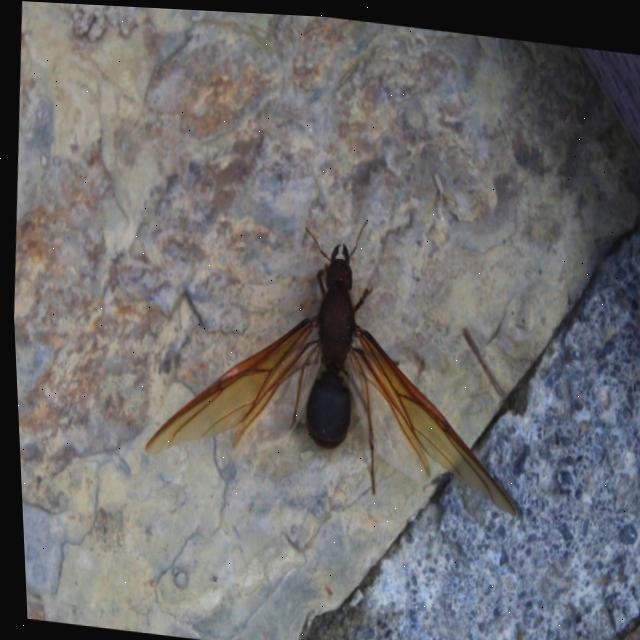Alive-Female-Alate: (128, 190, 532, 513)
